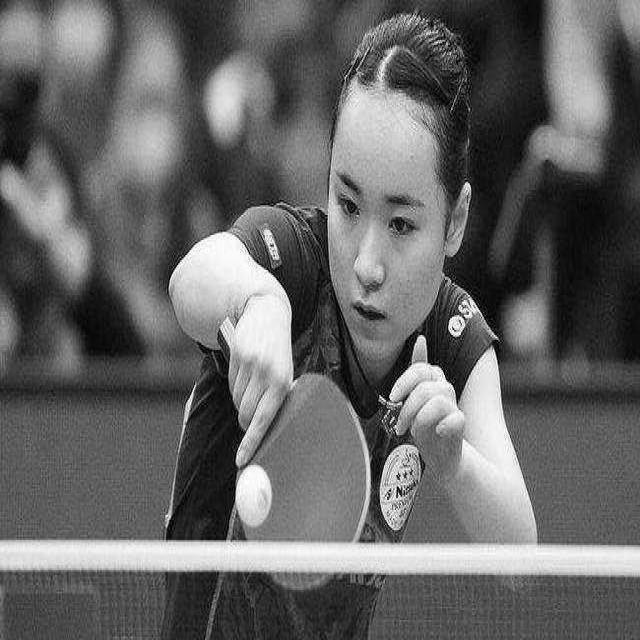ping-pong-ball: (234, 458, 273, 528)
